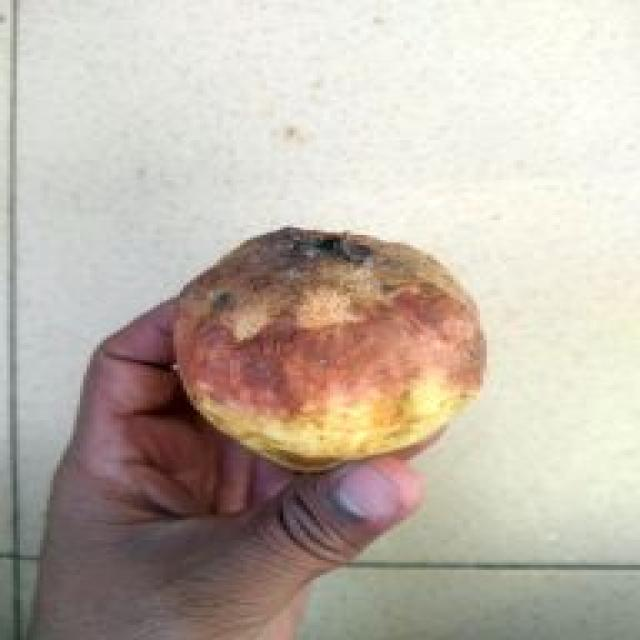Bad_Guava: (177, 228, 485, 471)
